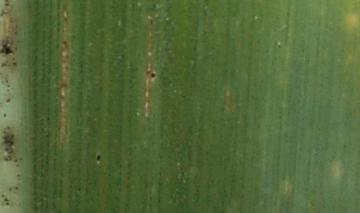tarspot: (94, 151, 103, 165), (150, 69, 158, 81)
